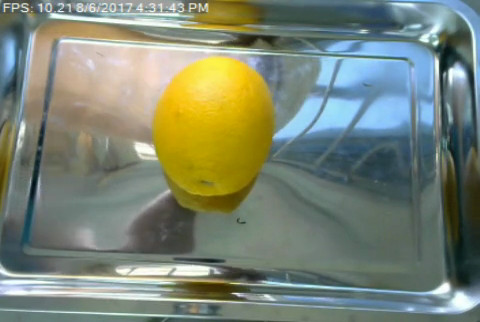Orange: (151, 55, 274, 196)
